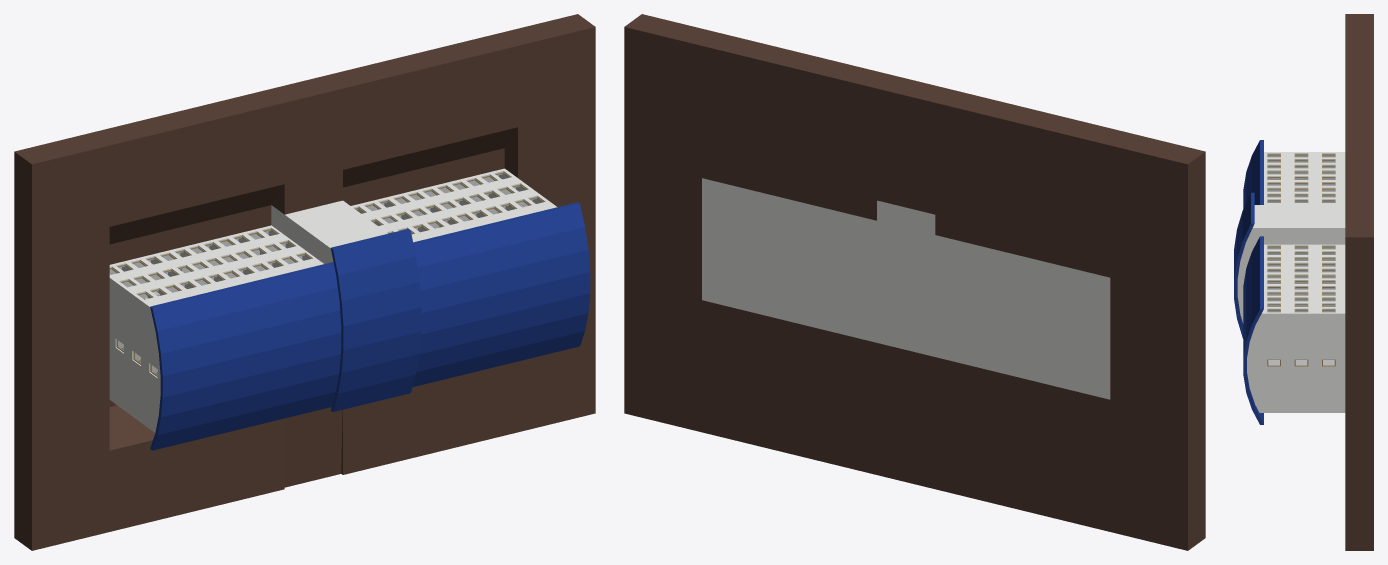
Rendered from bimtest.obj.
The picture shows the model from 3 angles, left to right: view 1: azimuth 30°, elevation 25°; view 2: azimuth 150°, elevation 25°; view 3: azimuth 270°, elevation 25°; orthographic projection. The views are drawn at different scales.
Visible parts, largest first — view 1: product-650246a6-55c9-4651-9126-3946feba38f3-body, product-013598c9-70bc-45d4-972c-e670257c82b5-body, product-505432ef-13cd-4c88-9854-be69d66ac865-body, product-2b3a1580-198d-4a16-ae7e-8d8e009d9af0-body, product-17ae011f-5529-4bb3-8854-b3c435d03bbd-body, product-76841a13-3a7c-44df-b1a0-c583925482b6-body, product-3e19e0ba-d3b1-4ef2-a30a-4ba0b29acd6f-body, product-0376d37d-ad87-4f84-9b65-556d63004532-body, product-ad17e01d-bd76-400b-9d3f-affa6b863482-body, product-1eca5771-167f-4e76-87d9-da4d13b50cfa-body, product-70043fae-8028-4836-b654-1decb0045b9f-body, product-d4c44802-8f43-4450-853d-847b1c0fbaed-body (+26 smaller); view 2: product-650246a6-55c9-4651-9126-3946feba38f3-body, product-a0c4d439-8526-4113-b693-f130db69987b-body; view 3: product-650246a6-55c9-4651-9126-3946feba38f3-body, product-0f6a210a-6baa-429f-8cc5-6cad631a3610-body, product-78d5e9a2-6470-4d4a-9078-0c8caa7816df-body, product-f45a7da1-a61d-4ae7-8546-03079bf887ed-body, product-6a6308b6-bcdd-41db-8762-c93e22065eff-body, product-9539c1c7-2cc1-4651-a0db-1f85ebd7ba02-body, product-cb4937f8-96ac-4e6d-a9b6-0354fd288858-body, product-24d3a388-0946-4590-aa05-b95fff6cbef8-body, product-751e77ed-dbe1-40f7-a276-b8bc80aba4b4-body, product-ce8bbcb2-b440-456a-ae75-de66b6f0252b-body, product-fb532f45-be2d-42b8-b472-dee3c1a48b3d-body, product-98a85fc7-03c9-4137-b6c1-76207a225f57-body (+18 smaller).
Part boxes in pixels (x1,y1,x2,y2): product-650246a6-55c9-4651-9126-3946feba38f3-body: (14,14,595,550); product-013598c9-70bc-45d4-972c-e670257c82b5-body: (150,262,337,331); product-505432ef-13cd-4c88-9854-be69d66ac865-body: (413,202,584,267); product-2b3a1580-198d-4a16-ae7e-8d8e009d9af0-body: (155,287,340,353); product-17ae011f-5529-4bb3-8854-b3c435d03bbd-body: (159,310,341,376); product-76841a13-3a7c-44df-b1a0-c583925482b6-body: (417,227,588,290); product-3e19e0ba-d3b1-4ef2-a30a-4ba0b29acd6f-body: (160,333,341,397); product-0376d37d-ad87-4f84-9b65-556d63004532-body: (420,250,590,312); product-ad17e01d-bd76-400b-9d3f-affa6b863482-body: (421,272,590,334); product-1eca5771-167f-4e76-87d9-da4d13b50cfa-body: (159,354,340,417); product-70043fae-8028-4836-b654-1decb0045b9f-body: (419,293,590,354); product-d4c44802-8f43-4450-853d-847b1c0fbaed-body: (155,374,338,435); product-650246a6-55c9-4651-9126-3946feba38f3-body: (624,14,1205,550); product-a0c4d439-8526-4113-b693-f130db69987b-body: (702,178,1110,399); product-650246a6-55c9-4651-9126-3946feba38f3-body: (1345,14,1373,550); product-0f6a210a-6baa-429f-8cc5-6cad631a3610-body: (1264,313,1289,412); product-78d5e9a2-6470-4d4a-9078-0c8caa7816df-body: (1319,313,1343,412); product-f45a7da1-a61d-4ae7-8546-03079bf887ed-body: (1292,313,1316,412); product-6a6308b6-bcdd-41db-8762-c93e22065eff-body: (1264,244,1289,313); product-9539c1c7-2cc1-4651-a0db-1f85ebd7ba02-body: (1319,244,1343,313); product-cb4937f8-96ac-4e6d-a9b6-0354fd288858-body: (1292,244,1316,313); product-24d3a388-0946-4590-aa05-b95fff6cbef8-body: (1264,152,1289,204); product-751e77ed-dbe1-40f7-a276-b8bc80aba4b4-body: (1319,152,1343,204); product-ce8bbcb2-b440-456a-ae75-de66b6f0252b-body: (1292,152,1316,204); product-fb532f45-be2d-42b8-b472-dee3c1a48b3d-body: (1247,314,1261,412); product-98a85fc7-03c9-4137-b6c1-76207a225f57-body: (1316,152,1319,412).
Size of the model in its own units: 58 by 38 by 15.35.
